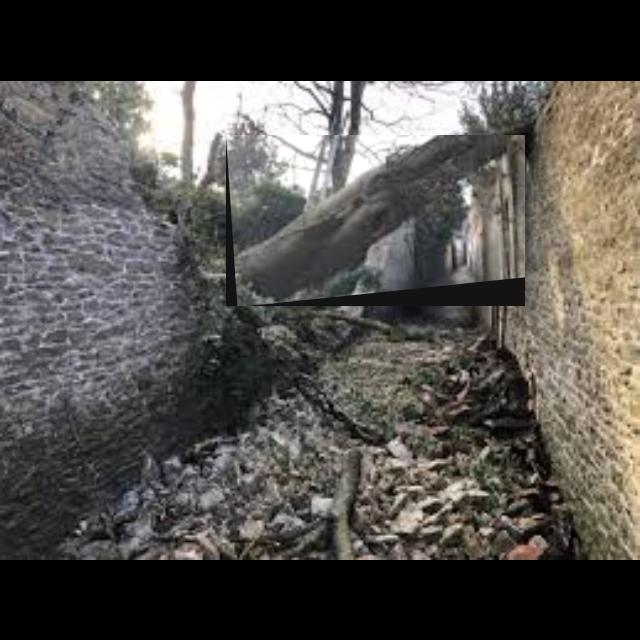Fallen Tree: (226, 135, 526, 307)
